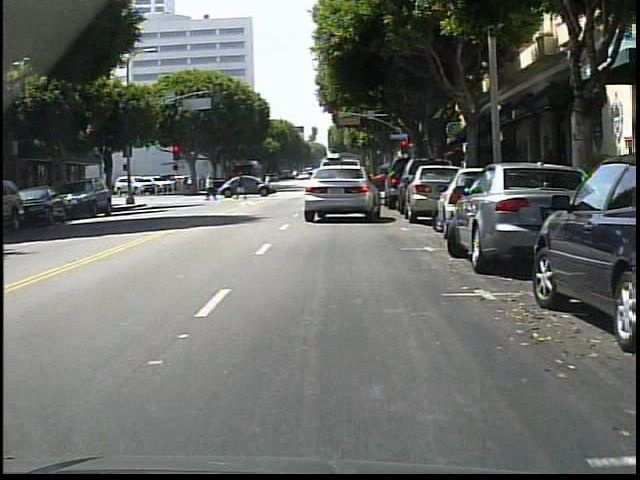person: (235, 172, 248, 201), (205, 174, 218, 199), (266, 173, 273, 192)
